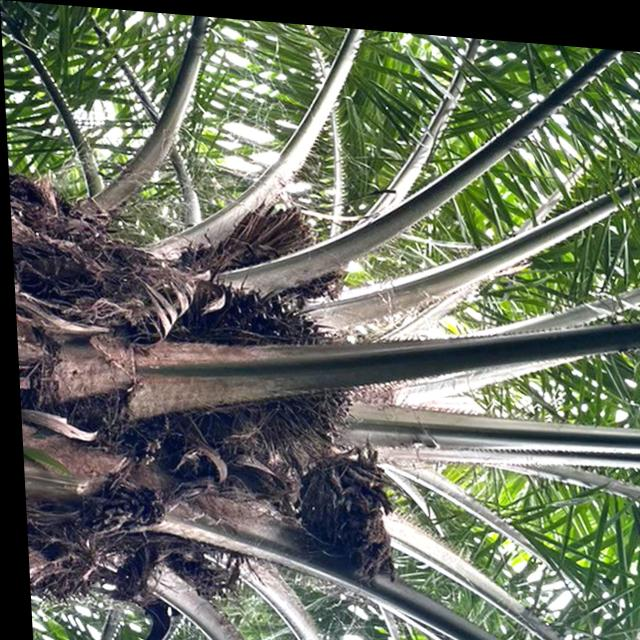almost: (163, 272, 357, 431)
